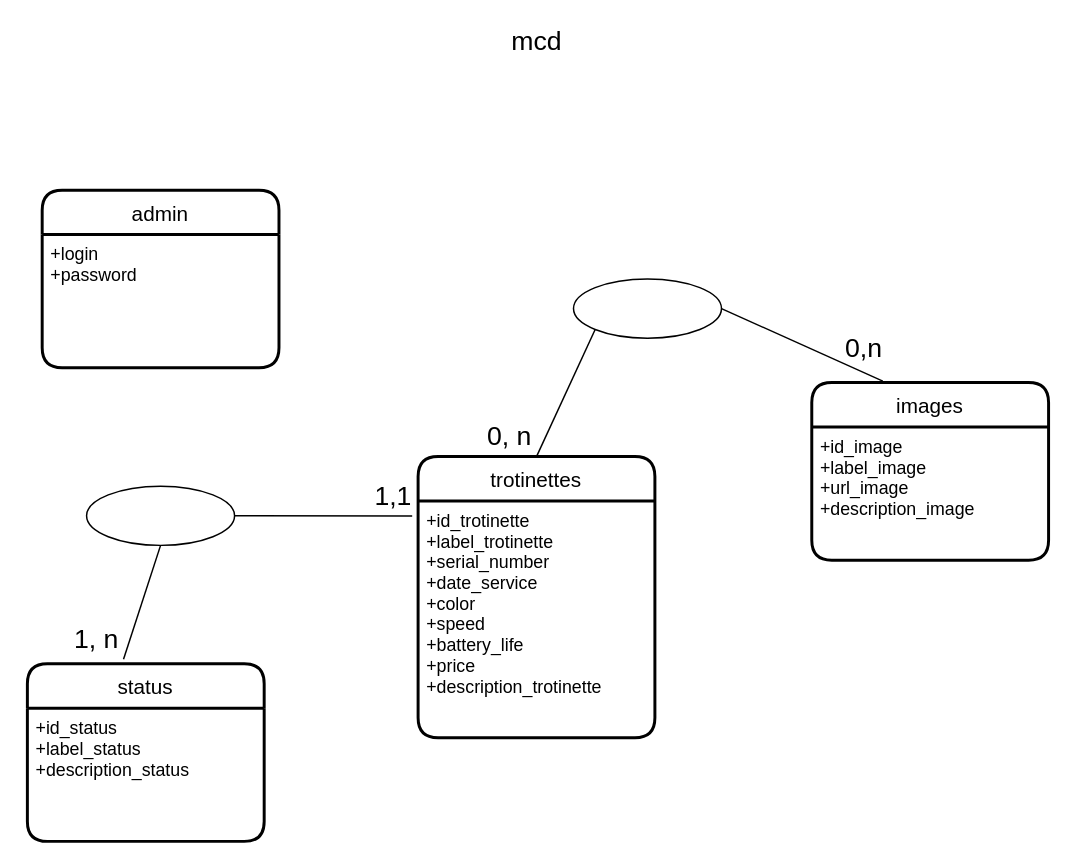
The diagram is 1074 pixels wide and 867 high, and some of its shapes have lost their labels. Each missing label, with the centre of its shape:
contient: (160,515)
possede: (647,308)
